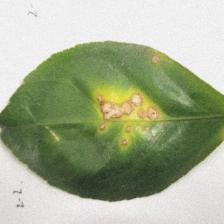canker: (84, 91, 158, 142)
